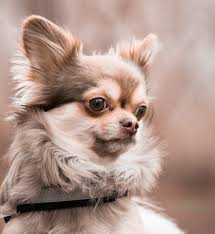Chihuahua: (1, 3, 179, 234)
